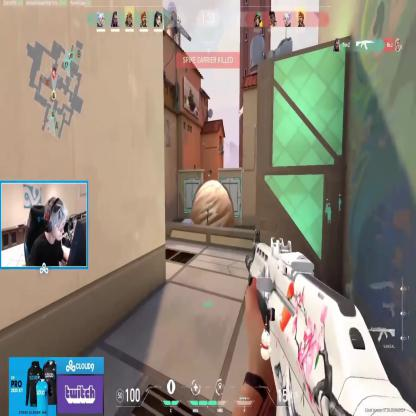enemy: (204, 204, 210, 227)
enemy_head: (206, 204, 208, 209)
